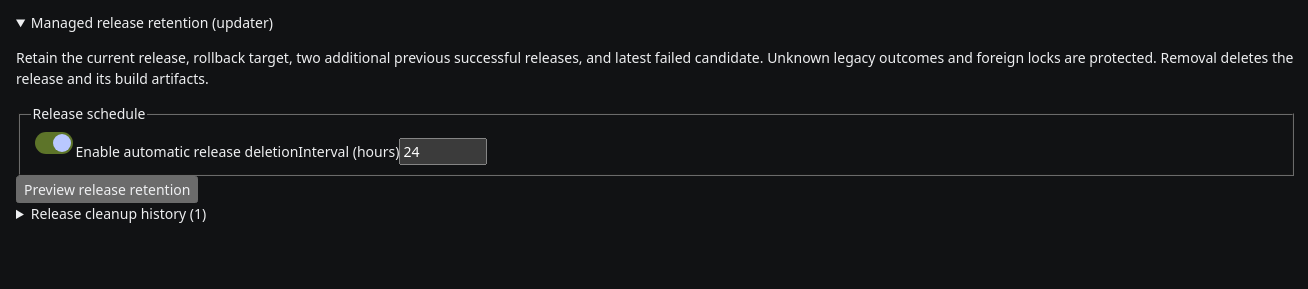
Test: release retention panel › surfaces API failures without losing the panel
Expected: the text "Release schedule" is shown, x1=30 y1=103 x2=148 y2=124
Click the button "Preview release retention": [107, 189] box x1=16 y1=176 x2=198 y2=203
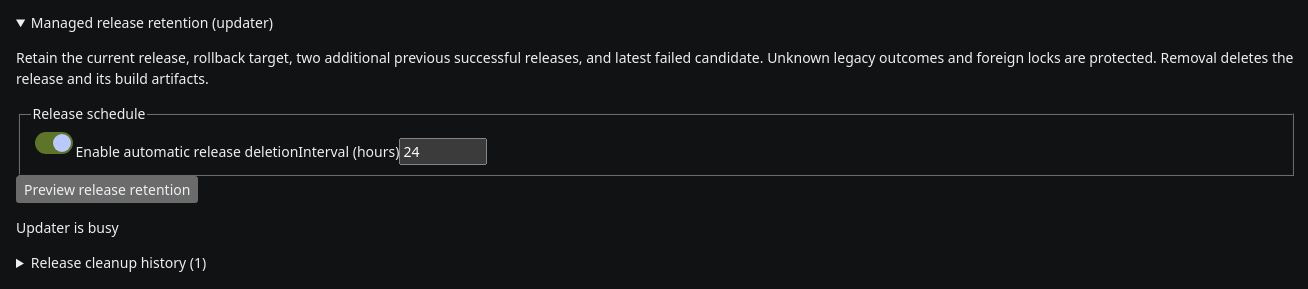
Expected: the text "Release schedule" is shown, x1=30 y1=103 x2=148 y2=124
Result: the message reads "Updater is busy" at x1=16 y1=218 x2=119 y2=237
